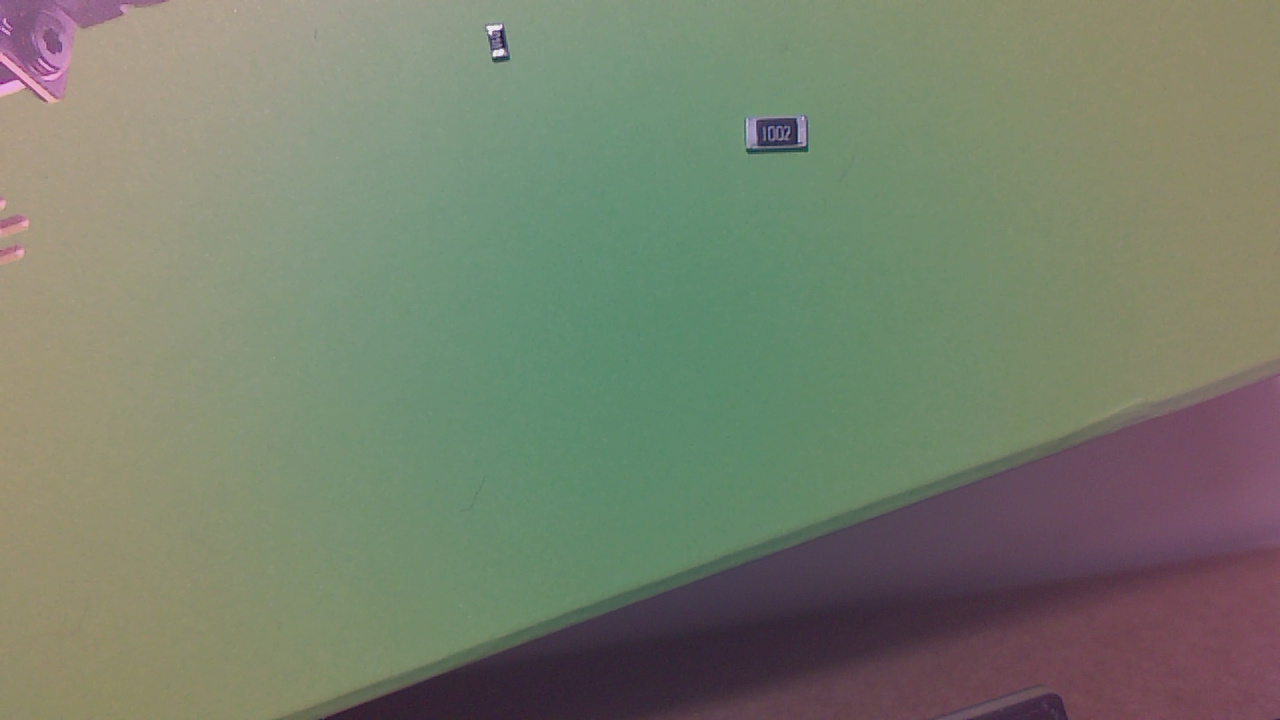Resistor: (747, 122, 812, 158), (492, 27, 517, 69)
